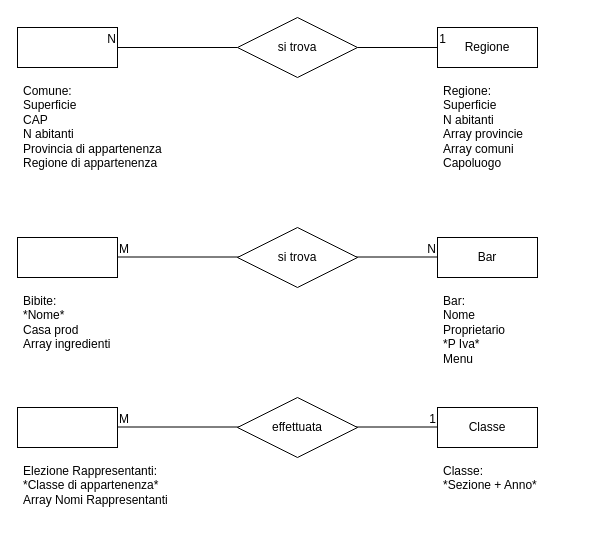
Some shapes in this 615 by 538 pixel diagram are drawn without their labels. Each missing label, with the box of its shape:
Bibite: (16, 236, 118, 278)
Comune: (16, 26, 118, 68)
Elezione Rappresentanti: (16, 406, 118, 448)
